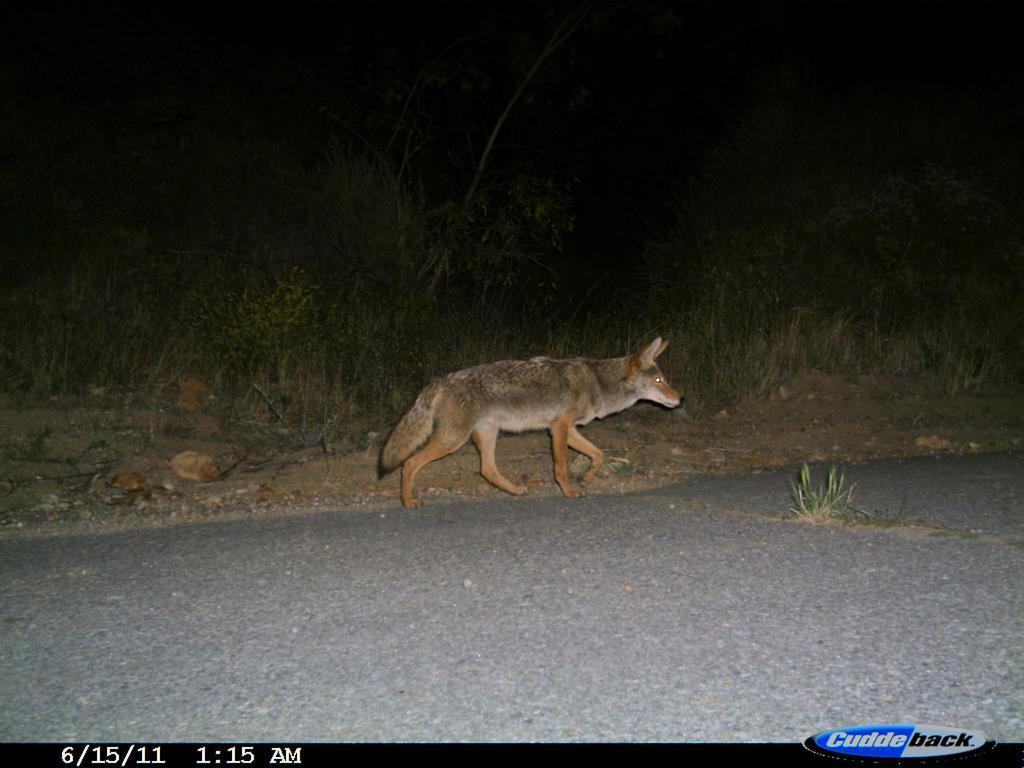coyote: (374, 328, 692, 513)
